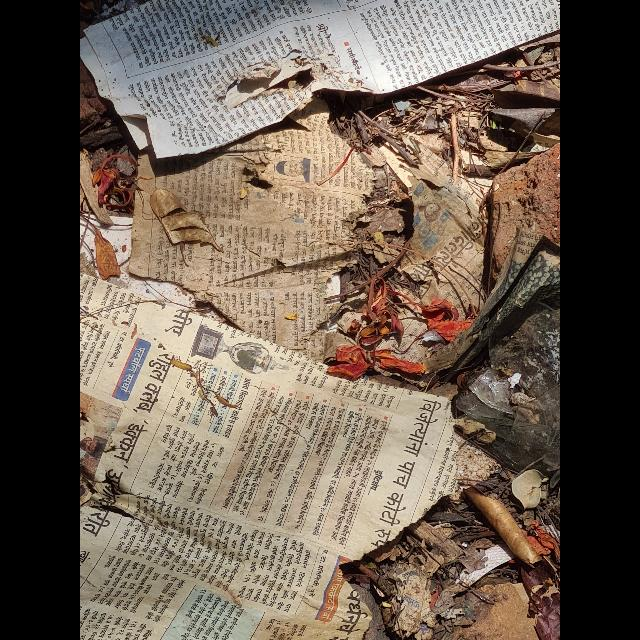trash: (81, 1, 558, 639), (80, 272, 462, 638), (80, 0, 560, 160)
